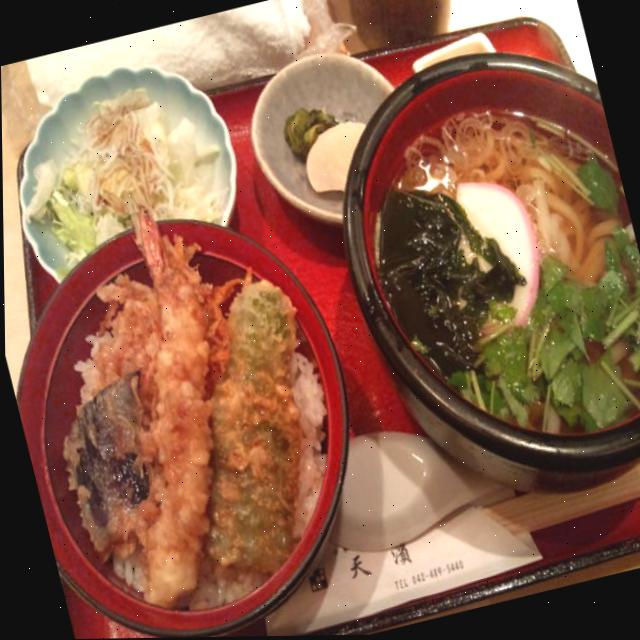熟制海鲜: (2, 196, 371, 640)
蔬菜料理: (27, 75, 228, 250)
面条主食: (330, 61, 640, 477)
